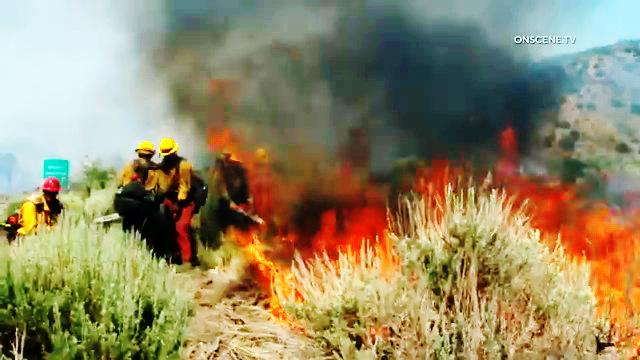fire: (504, 159, 640, 333), (246, 206, 414, 330)
smoke: (282, 6, 475, 136)
